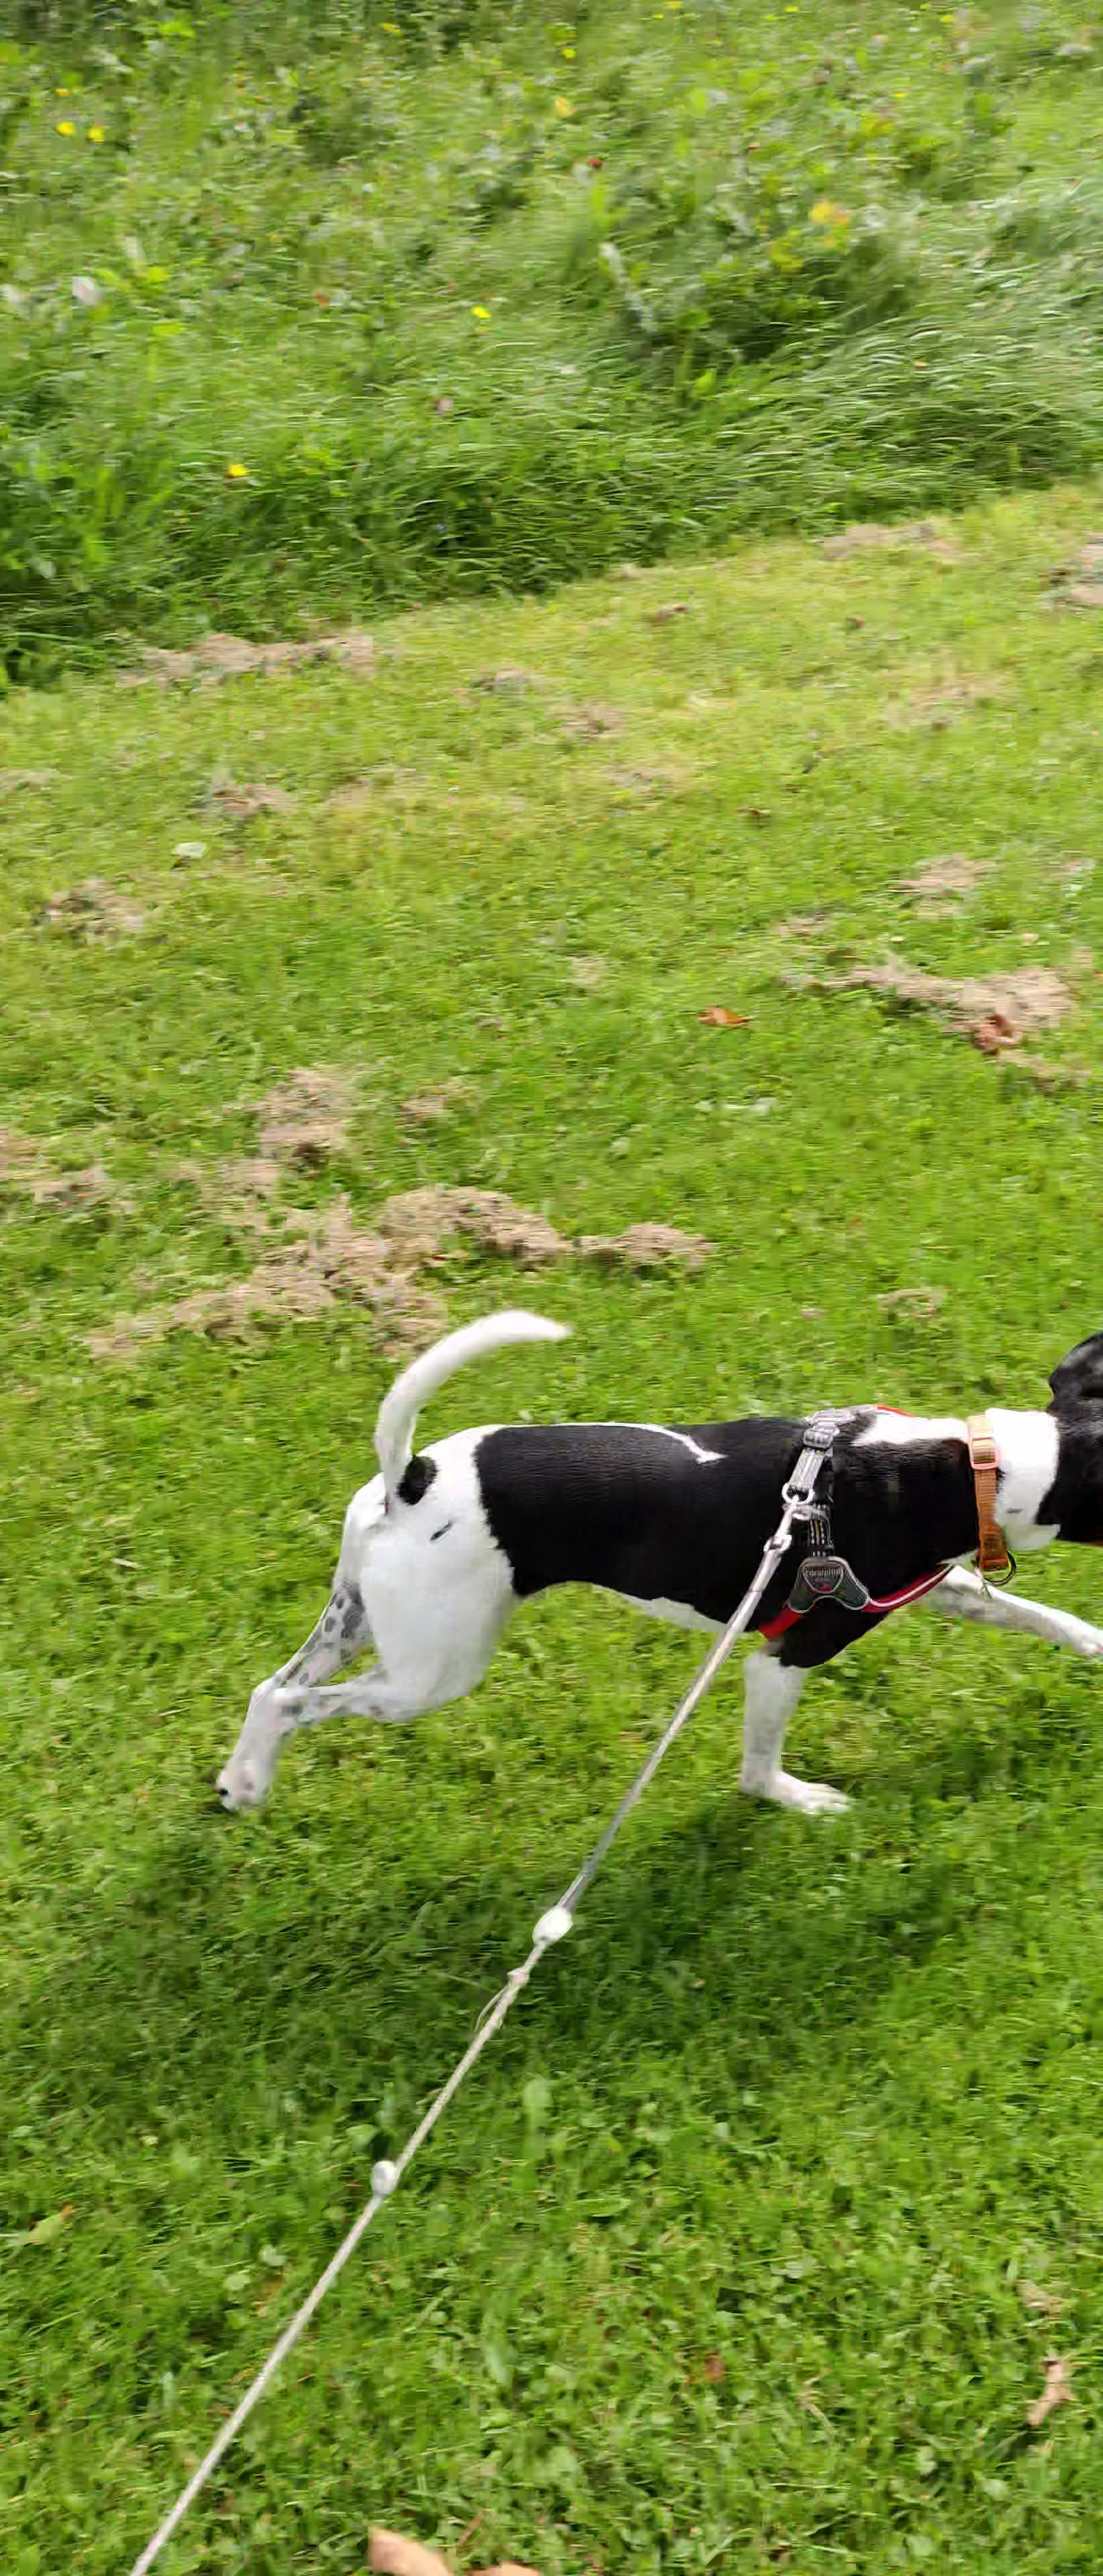Dog: (202, 1291, 1103, 1822)
